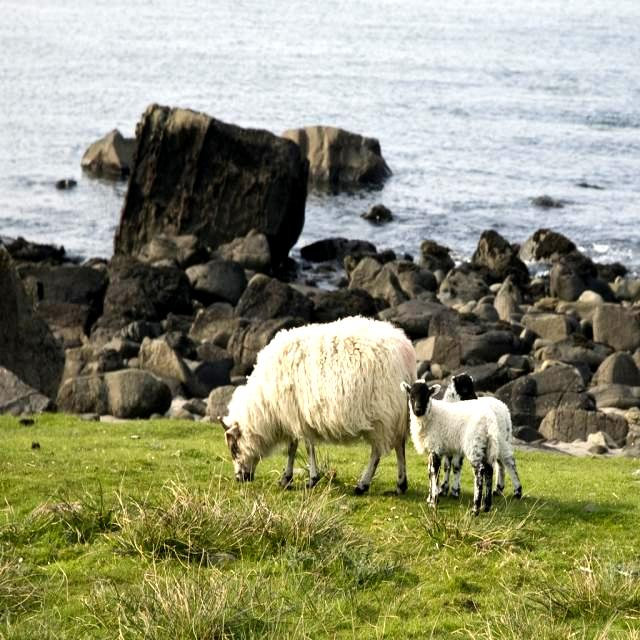sheep: (223, 316, 416, 495), (405, 383, 500, 509), (443, 371, 517, 494)
